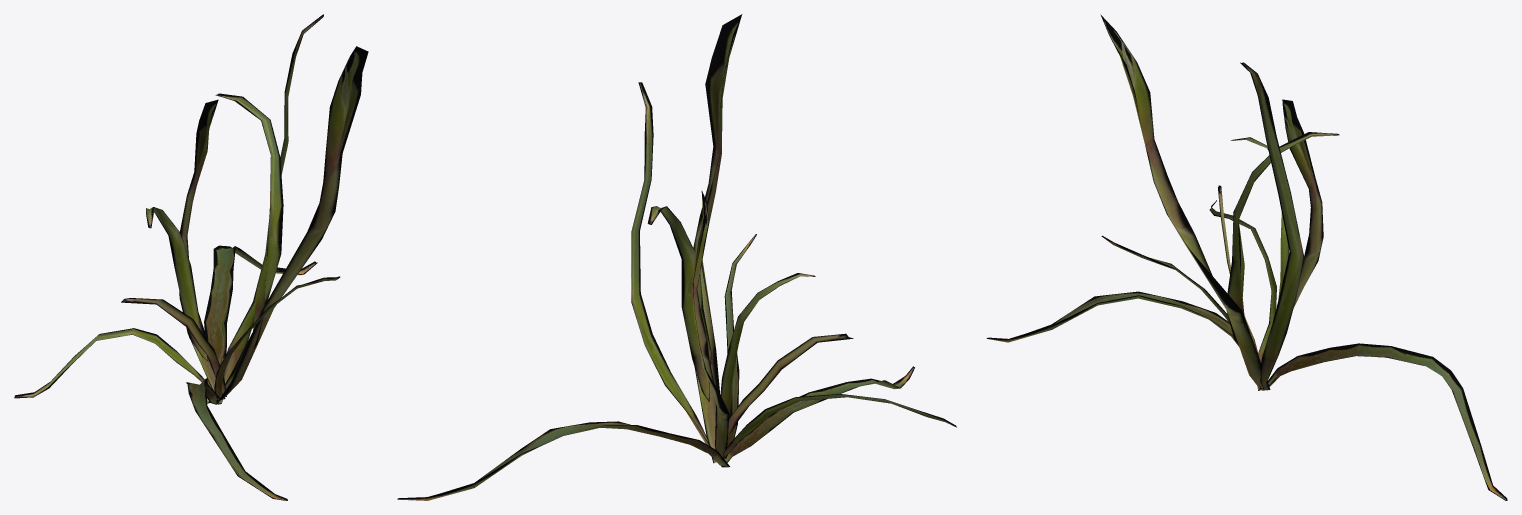
Rendered from flower_empodium_3.gltf.
The picture shows the model from 3 angles, left to right: view 1: azimuth 30°, elevation 25°; view 2: azimuth 150°, elevation 25°; view 3: azimuth 270°, elevation 25°; orthographic projection. The views are drawn at different scales.
Visible parts, largest first — view 1: flower_empodium_d_LOD0; view 2: flower_empodium_d_LOD0; view 3: flower_empodium_d_LOD0.
Boxes of the visible parts, <box> form: flower_empodium_d_LOD0: <box>14,14,368,500</box>; flower_empodium_d_LOD0: <box>397,14,956,500</box>; flower_empodium_d_LOD0: <box>986,14,1507,500</box>.
Size of the model in its own units: 0.1941 by 0.168 by 0.1943.
1 material, 1 textured.
